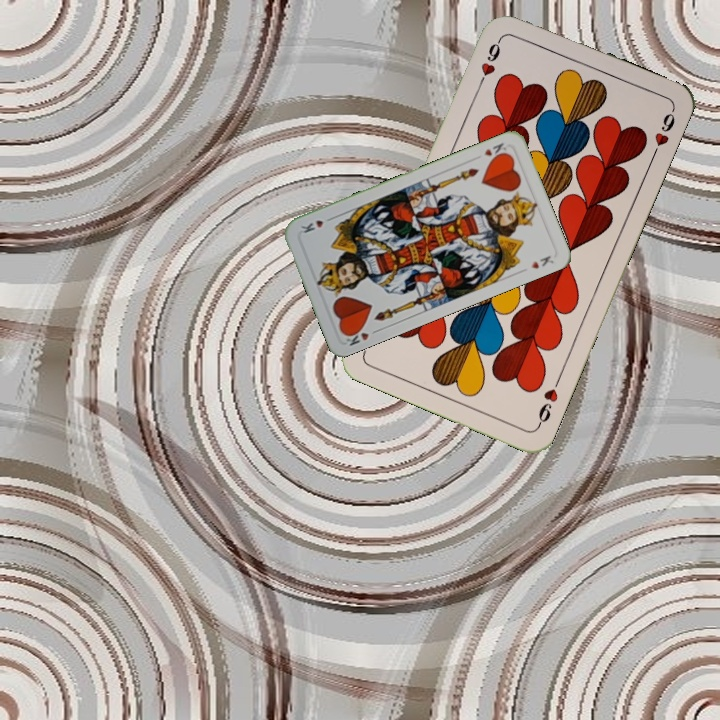H9: (474, 34, 505, 90), (533, 374, 563, 430)
HK: (341, 323, 372, 348), (480, 139, 510, 162)
